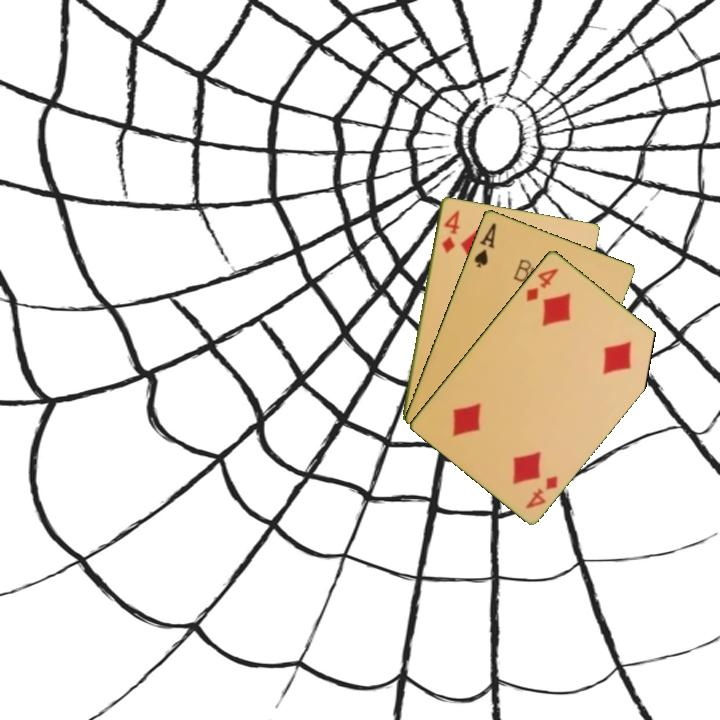4d: (522, 264, 561, 304), (522, 472, 561, 512), (437, 206, 462, 256)
As: (470, 219, 499, 270)
